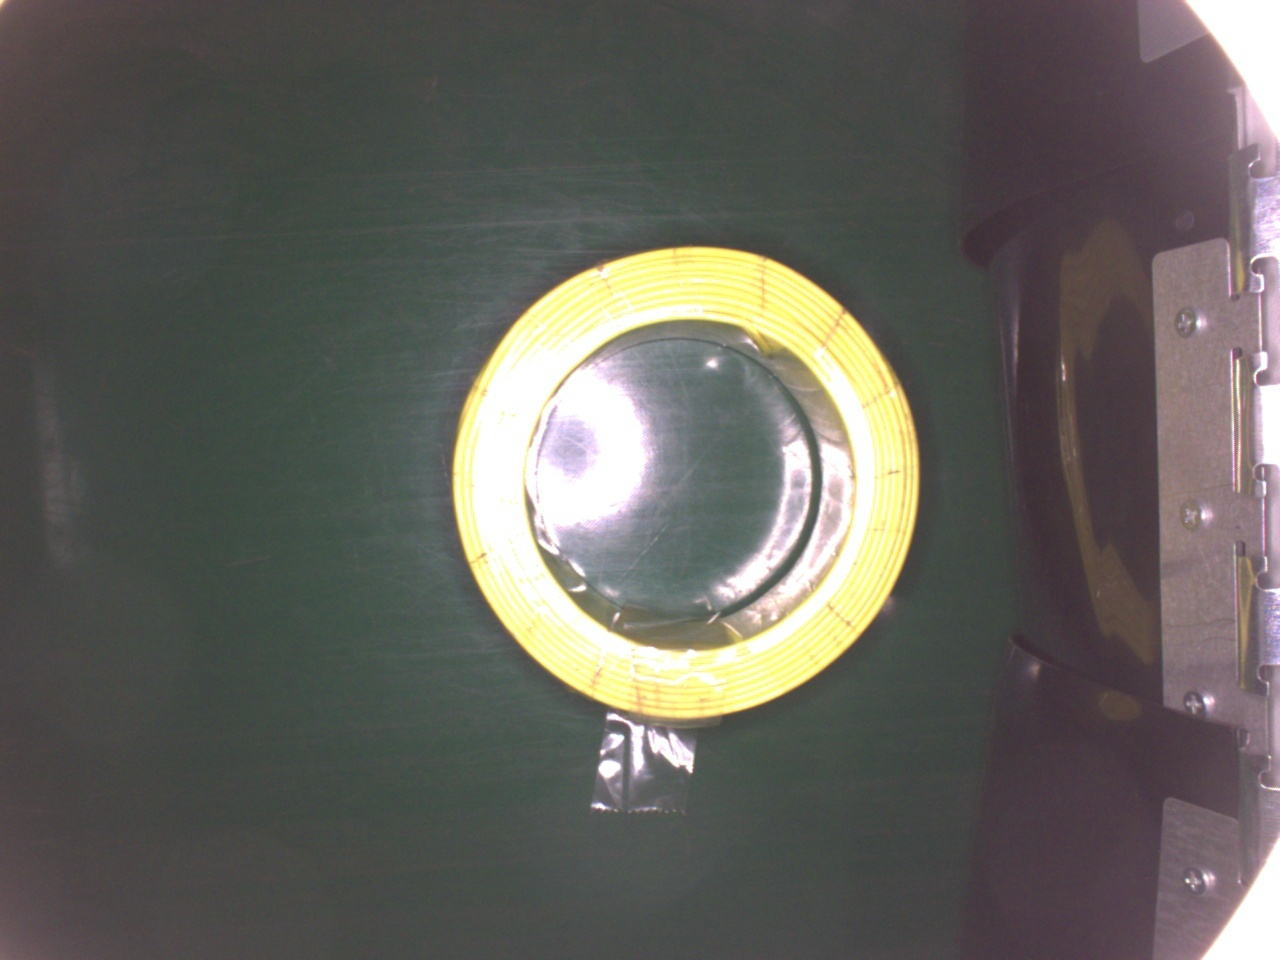yellow: (451, 233, 918, 720)
